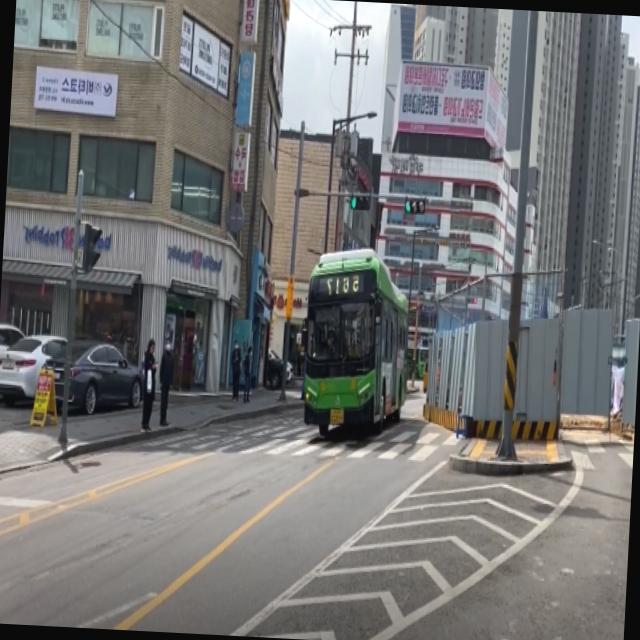bus-number: (326, 272, 360, 298)
